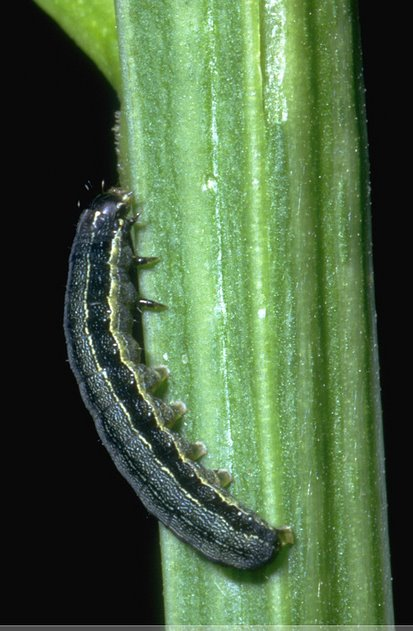Armyworm: (55, 172, 293, 579)
